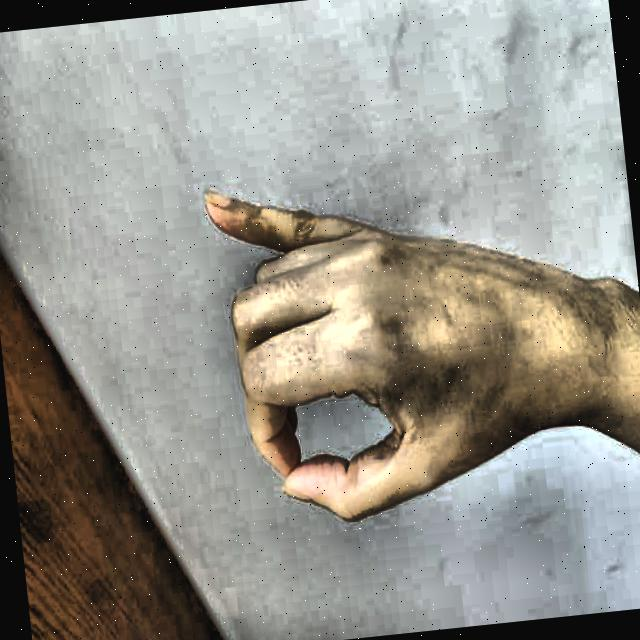Ou: (170, 107, 597, 558)
